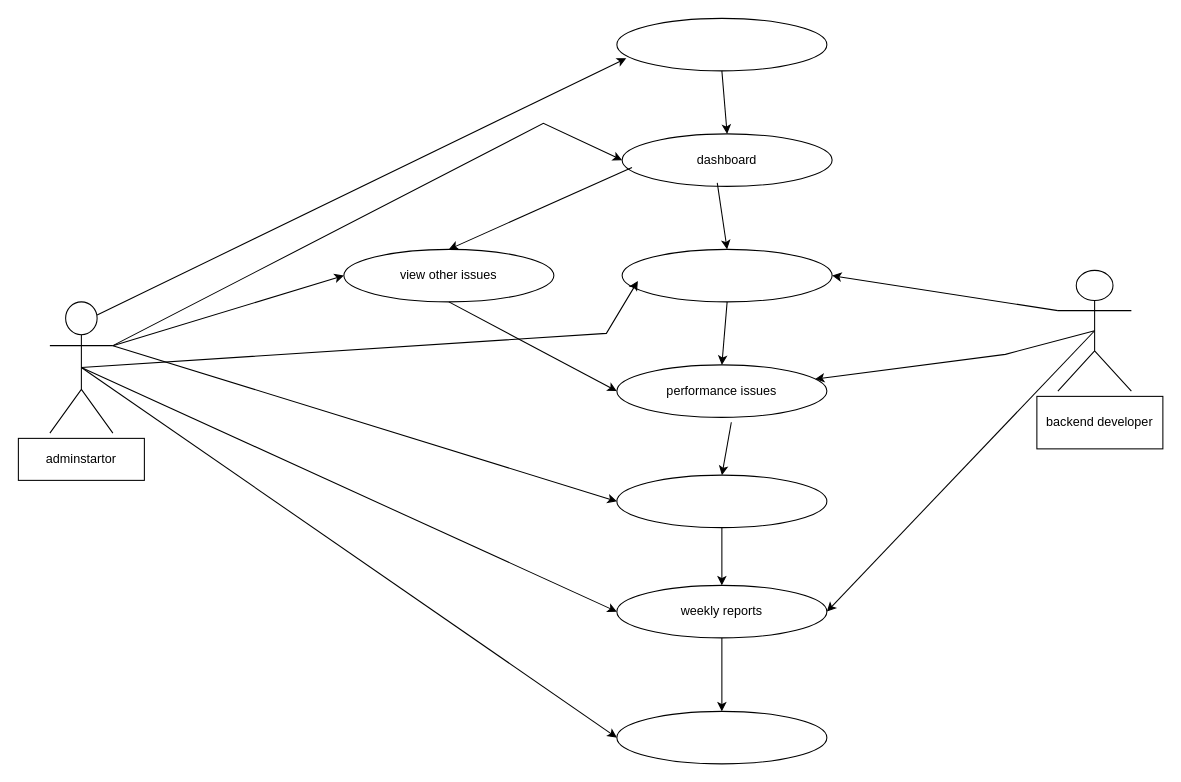
Some shapes in this 1181 by 782 pixel diagram are drawn without their labels. Here are the shapes that lost their labels. From the top down, the centre of each, then its label:
point (721, 44): upload logs
point (726, 275): view slow queries
point (721, 501): optimization recommendations
point (721, 737): download and export
